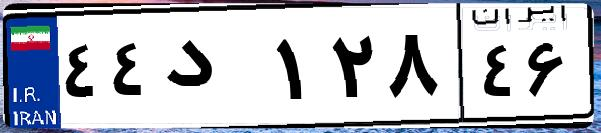1: (270, 28, 330, 110)
2: (330, 28, 385, 110)
4: (57, 26, 110, 100), (475, 38, 525, 113), (110, 28, 158, 98)
6: (525, 38, 570, 115)
8: (385, 28, 445, 110)
د: (158, 20, 270, 120)
